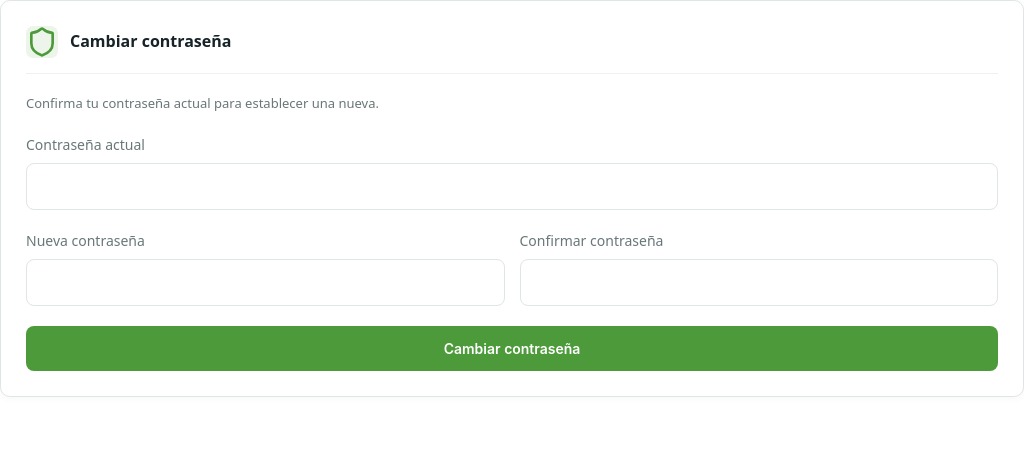
Test: CambioContrasenaForm › actualiza la contraseña después de reautenticar al usuario
In the password field labelled "Contraseña actual": (512, 186) top-left (26, 162), bottom-right (998, 210), type "actual123"
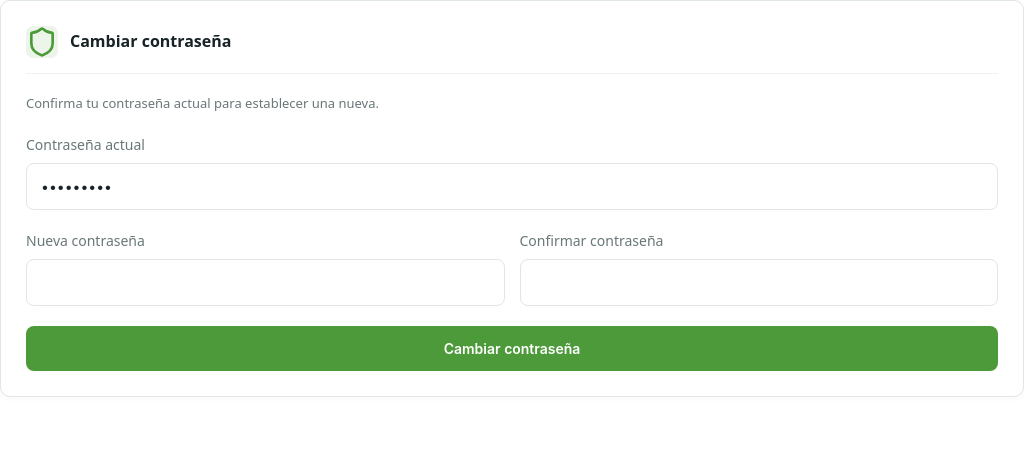
In the password field labelled "Nueva contraseña": (265, 282) top-left (26, 258), bottom-right (504, 306), type "nueva123"
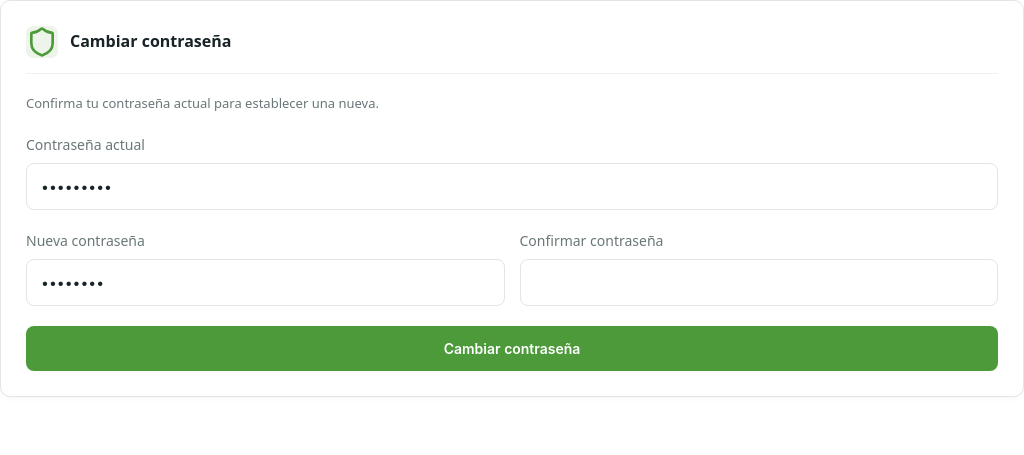
In the password field labelled "Confirmar contraseña": (759, 282) top-left (520, 258), bottom-right (998, 306), type "nueva123"
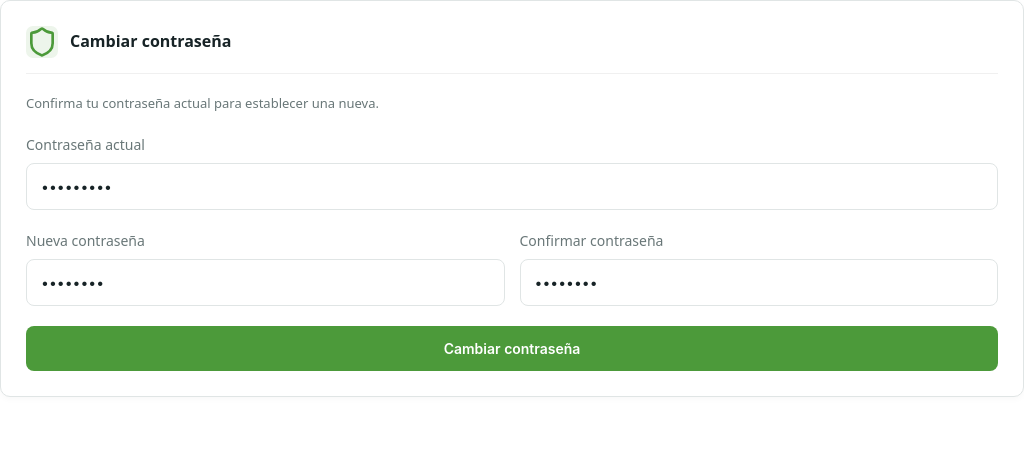
Click the button "Cambiar contraseña": (512, 348) top-left (26, 326), bottom-right (998, 370)
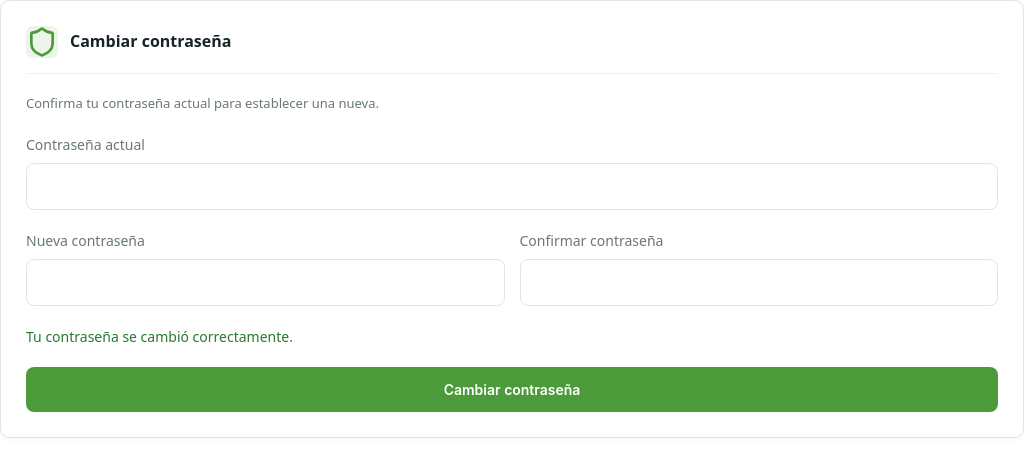
Expected: the message reads "Tu contraseña se cambió correctamente.", top-left (26, 326), bottom-right (293, 346)
